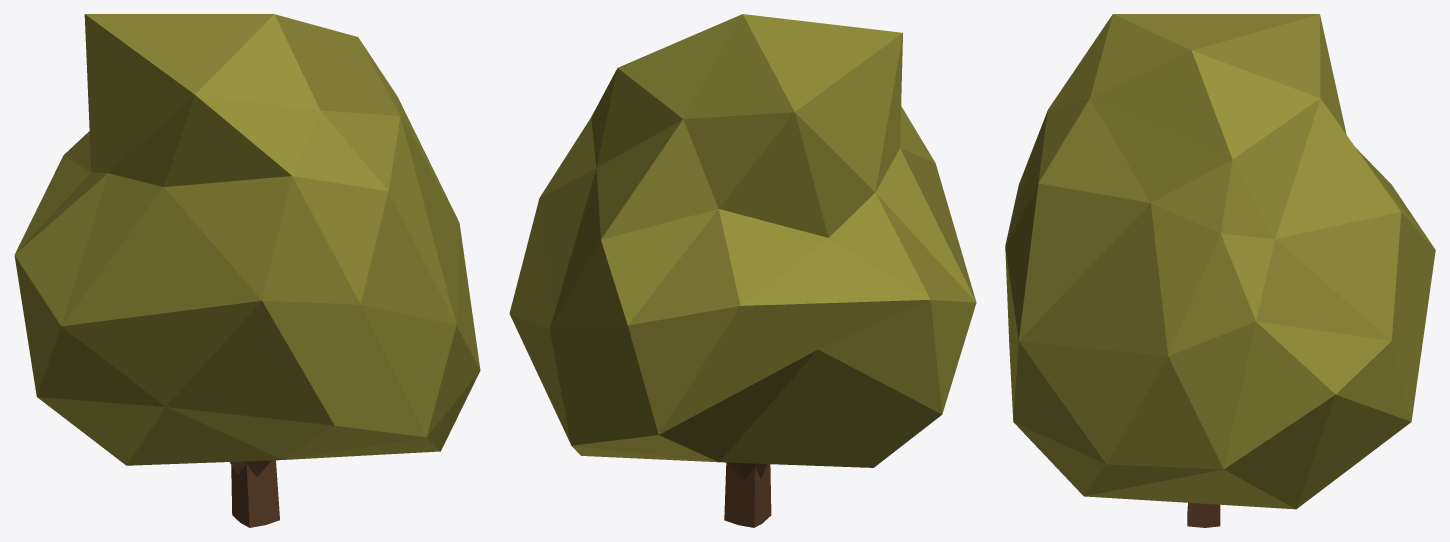
File: Tree_10_Yellow.fbx
3 views of the same model, side by side, from view 1: azimuth 30°, elevation 25°; view 2: azimuth 150°, elevation 25°; view 3: azimuth 270°, elevation 25° (orthographic). The views are drawn at different scales.
Parts seen in each view (by area): view 1: Tree_10_Yellow; view 2: Tree_10_Yellow; view 3: Tree_10_Yellow.
Part boxes in pixels (<box>): Tree_10_Yellow: <box>14,14,480,527</box>; Tree_10_Yellow: <box>509,14,976,527</box>; Tree_10_Yellow: <box>1005,14,1435,527</box>.
Size of the model in its own units: 682 by 802 by 656.
